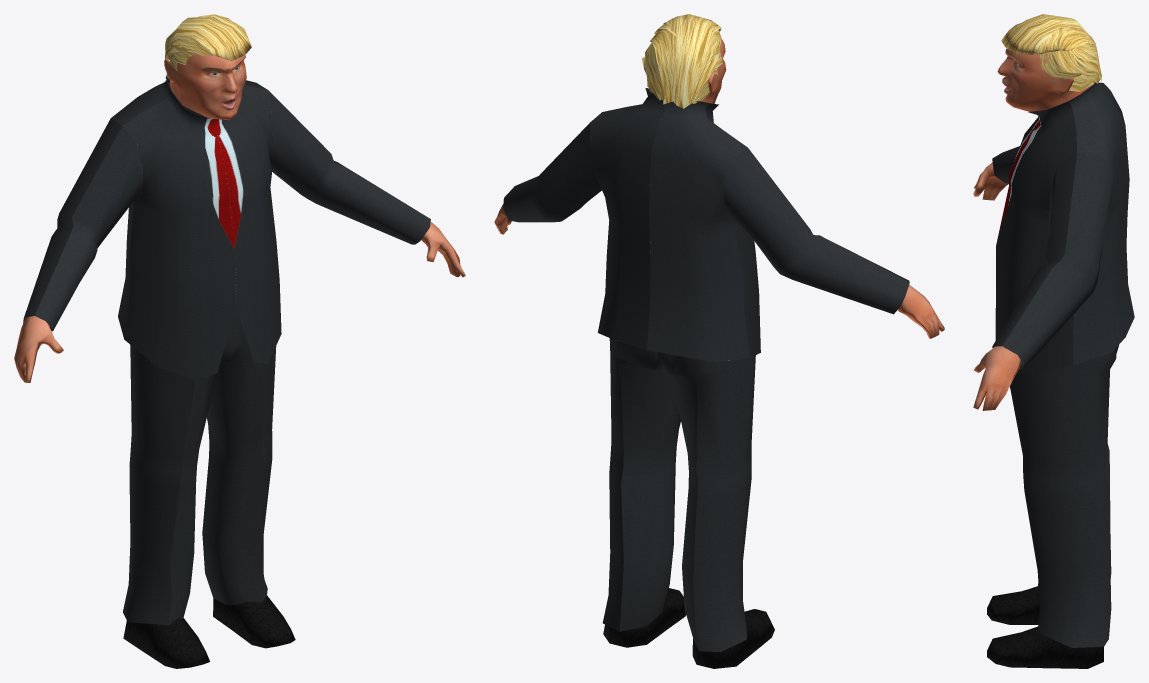
3 views of the same model, side by side, from view 1: azimuth 30°, elevation 25°; view 2: azimuth 150°, elevation 25°; view 3: azimuth 270°, elevation 25° (orthographic).
Parts seen in each view (by area): view 1: Suit; view 2: Suit; view 3: Suit.
Part boxes in pixels (x1,y1,x2,y2): Suit: (14, 14, 465, 668); Suit: (494, 14, 944, 668); Suit: (973, 14, 1134, 668).
Size of the model in its own units: 3.53 by 4.73 by 1.12.
1 material, 1 textured.
